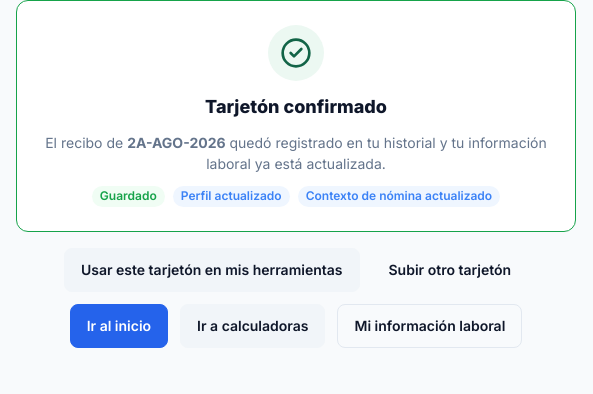
it: Regresión: ImportSuccess y estado fijado vs guardado › cuando fijar tiene éxito, actualiza estado a 'Fijado como activo'
Click the button "Usar este tarjetón en mis herramientas" at (212, 270), box [64,248,360,292]
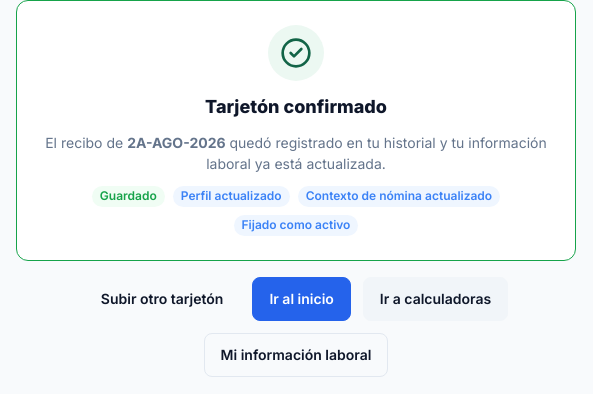
Result: the text "Fijado como activo" is shown at [234,215,358,236]
